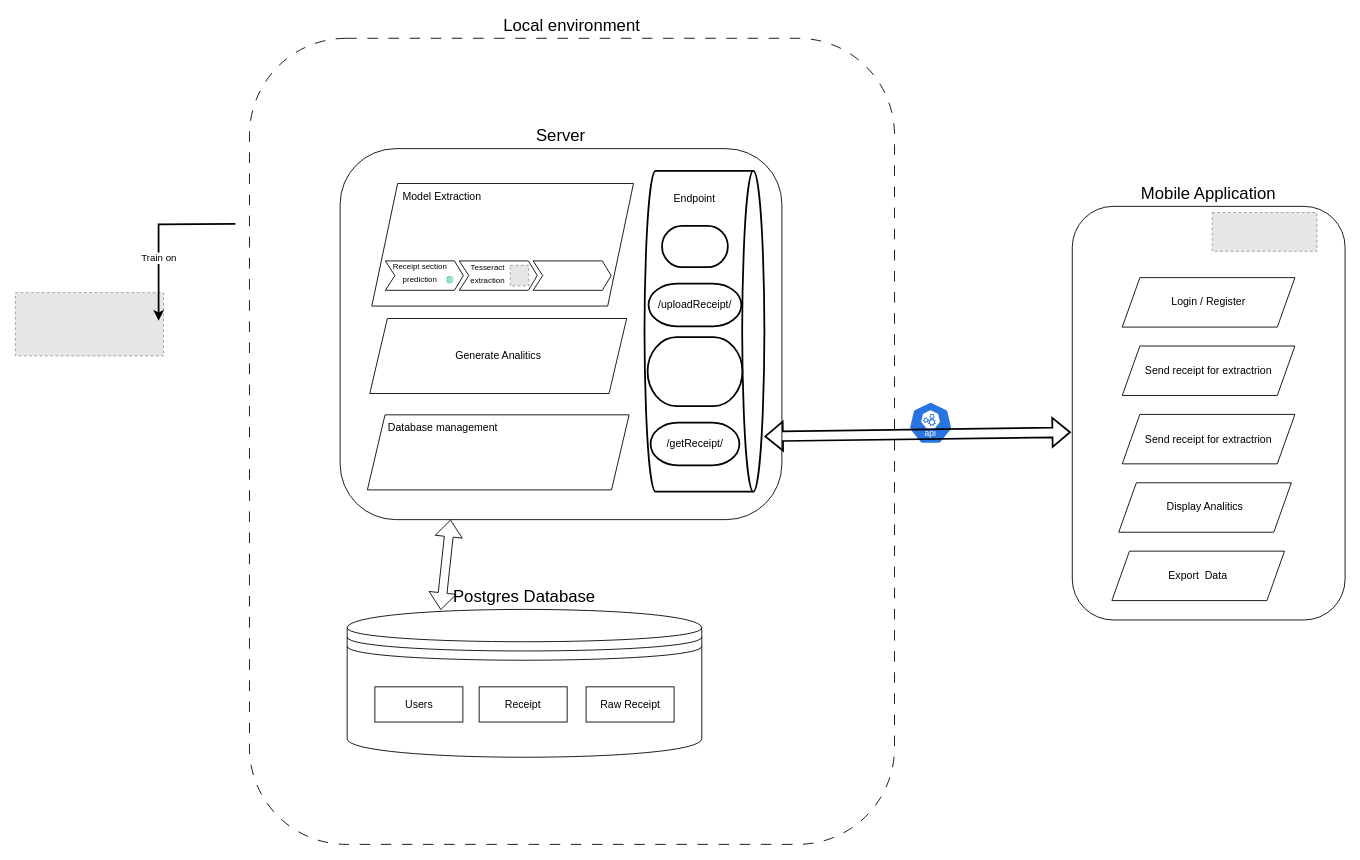
This 1360x860 diagram has some shape labels left out. Grey dashed boxes stand in for pictures. Each missing label, with the centre of its shape:
/uplaod Receip Data/: (694,371)
/users/: (694,246)
Classification & formating: (571,275)
